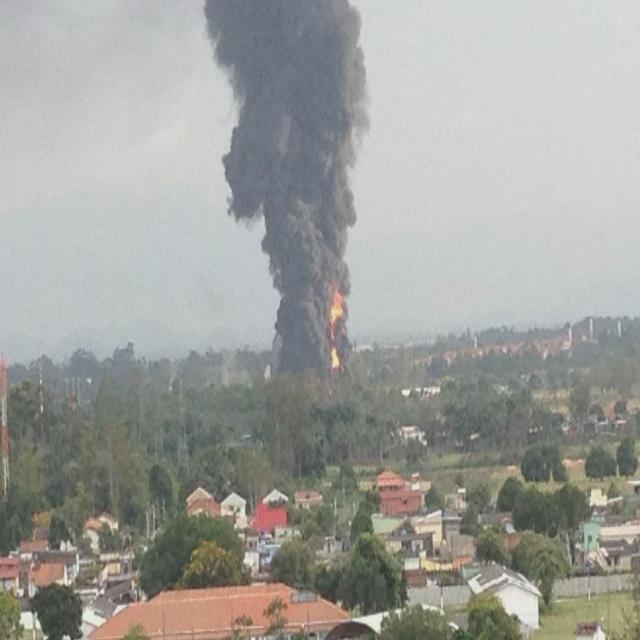Fire: (317, 286, 353, 374)
